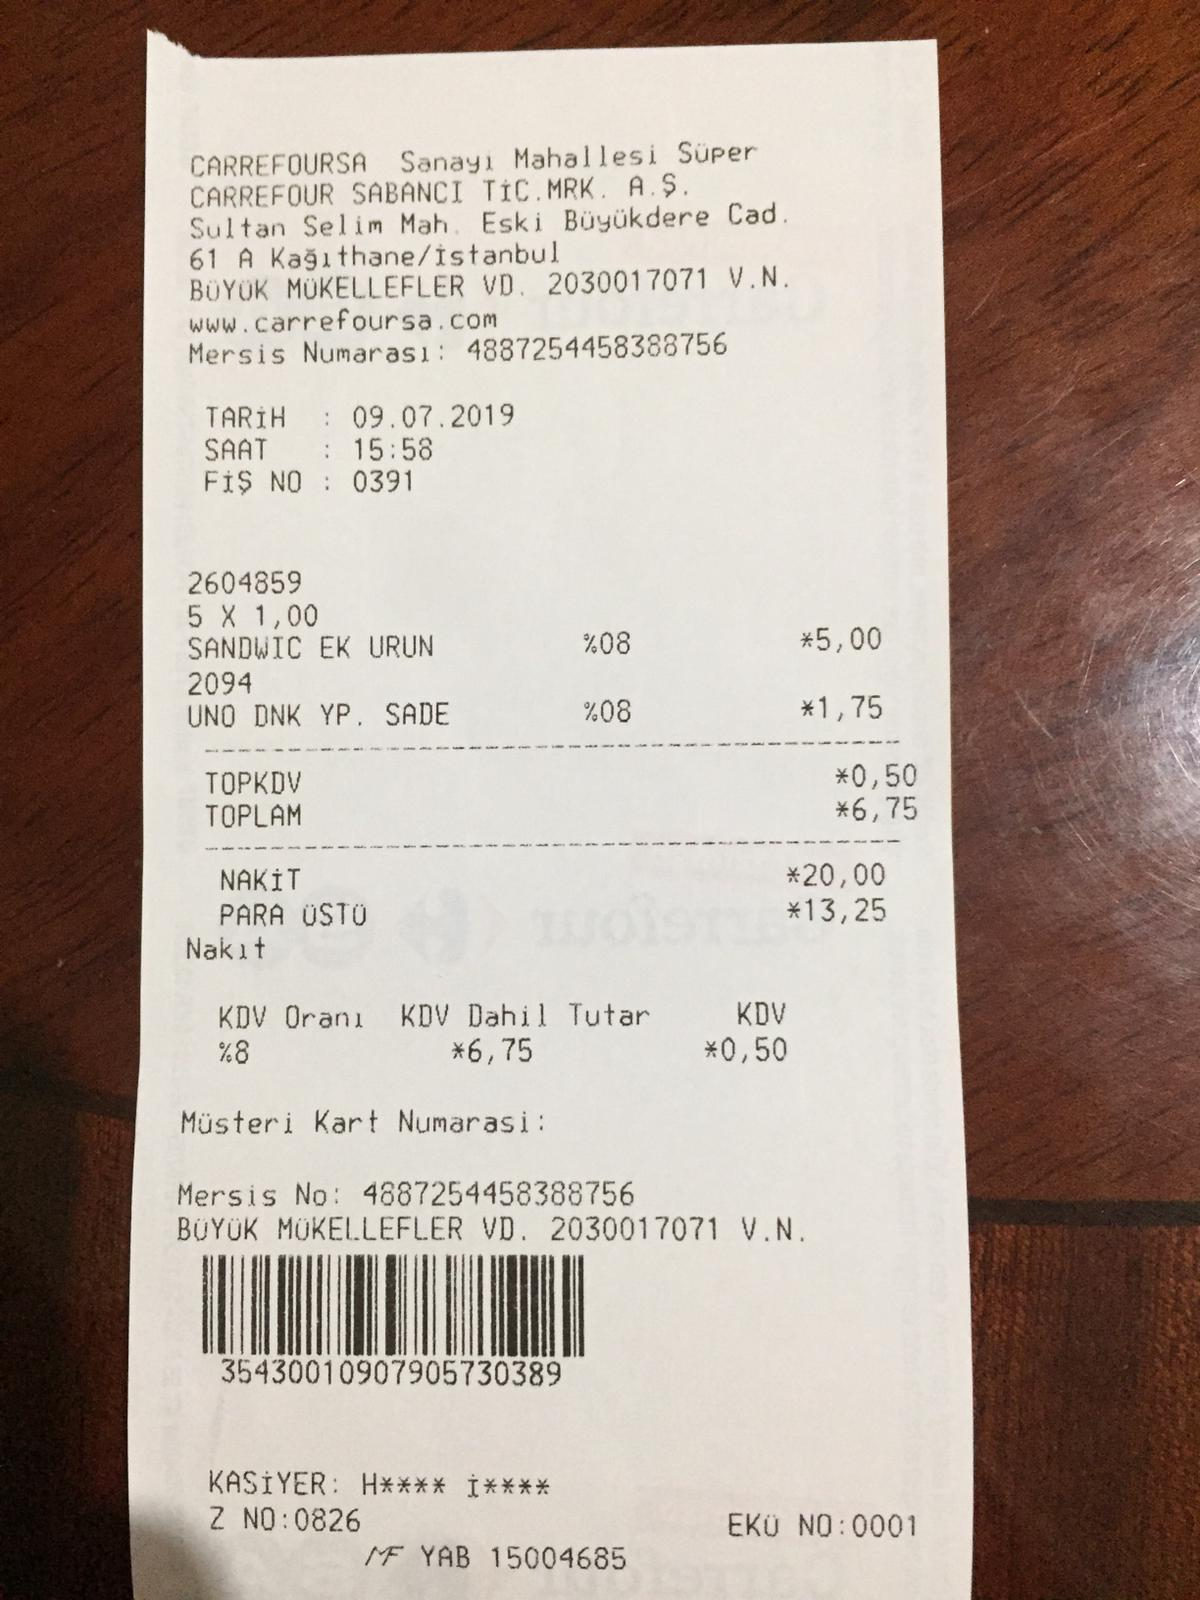total: (209, 794, 938, 835)
